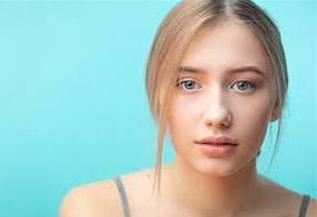Sober: (165, 27, 269, 174)
